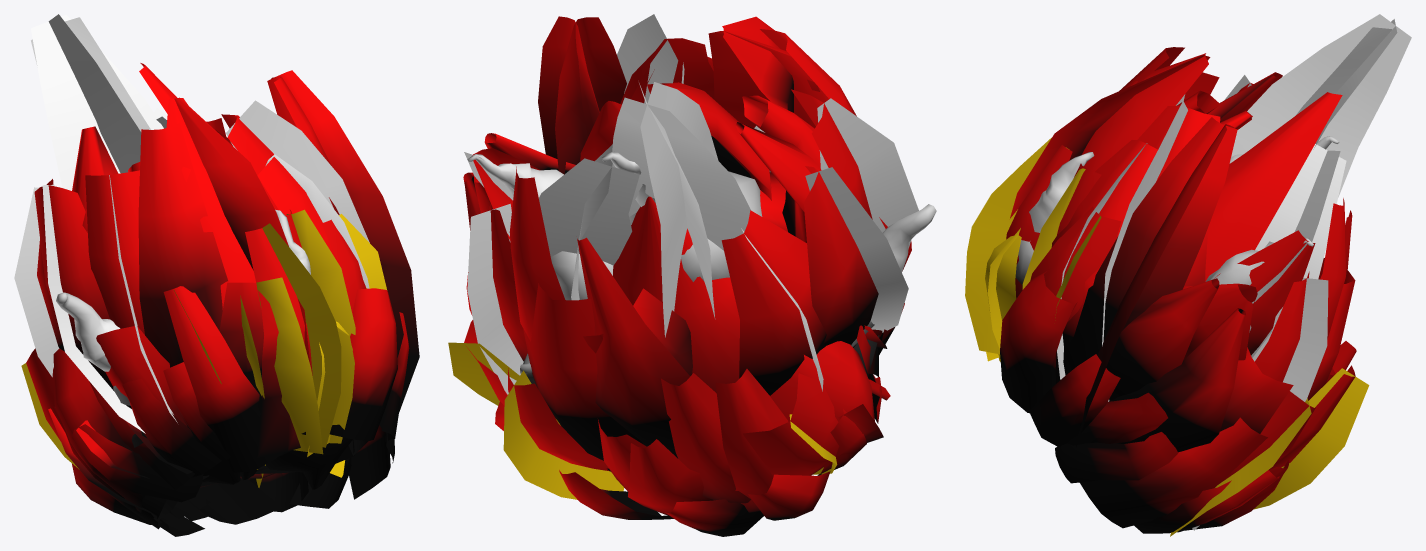
The model's file is Hair_Merge.fbx.
The picture shows the model from 3 angles, left to right: view 1: azimuth 30°, elevation 25°; view 2: azimuth 150°, elevation 25°; view 3: azimuth 270°, elevation 25°; orthographic projection. The views are drawn at different scales.
Visible parts, largest first — view 1: Plane.072; view 2: Plane.072; view 3: Plane.072.
Boxes of the visible parts, x1,y1,x2,y2 form: Plane.072: (14,14,419,536); Plane.072: (448,14,936,536); Plane.072: (965,14,1411,536).
Size of the model in its own units: 300 by 371 by 327.
